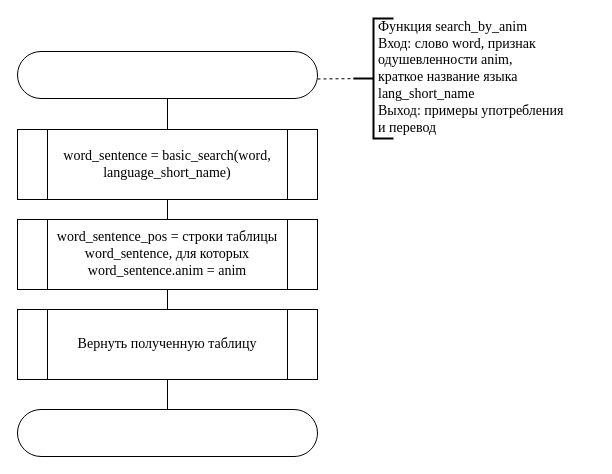
This 612x474 diagram has some shape labels left out. The shapes that lost their labels are listed below. From the top down, each one's centre as x and y in pixels, then its label:
point 167,74: Начало
point 167,432: Конец
